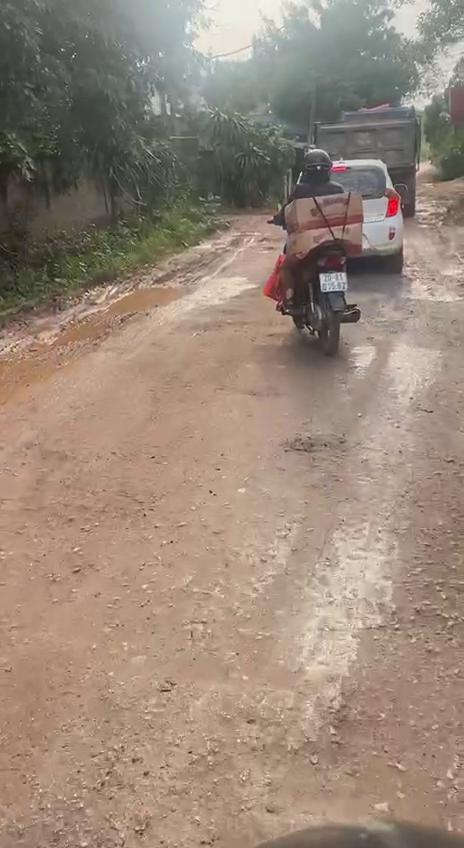pothole: (47, 280, 202, 353)
